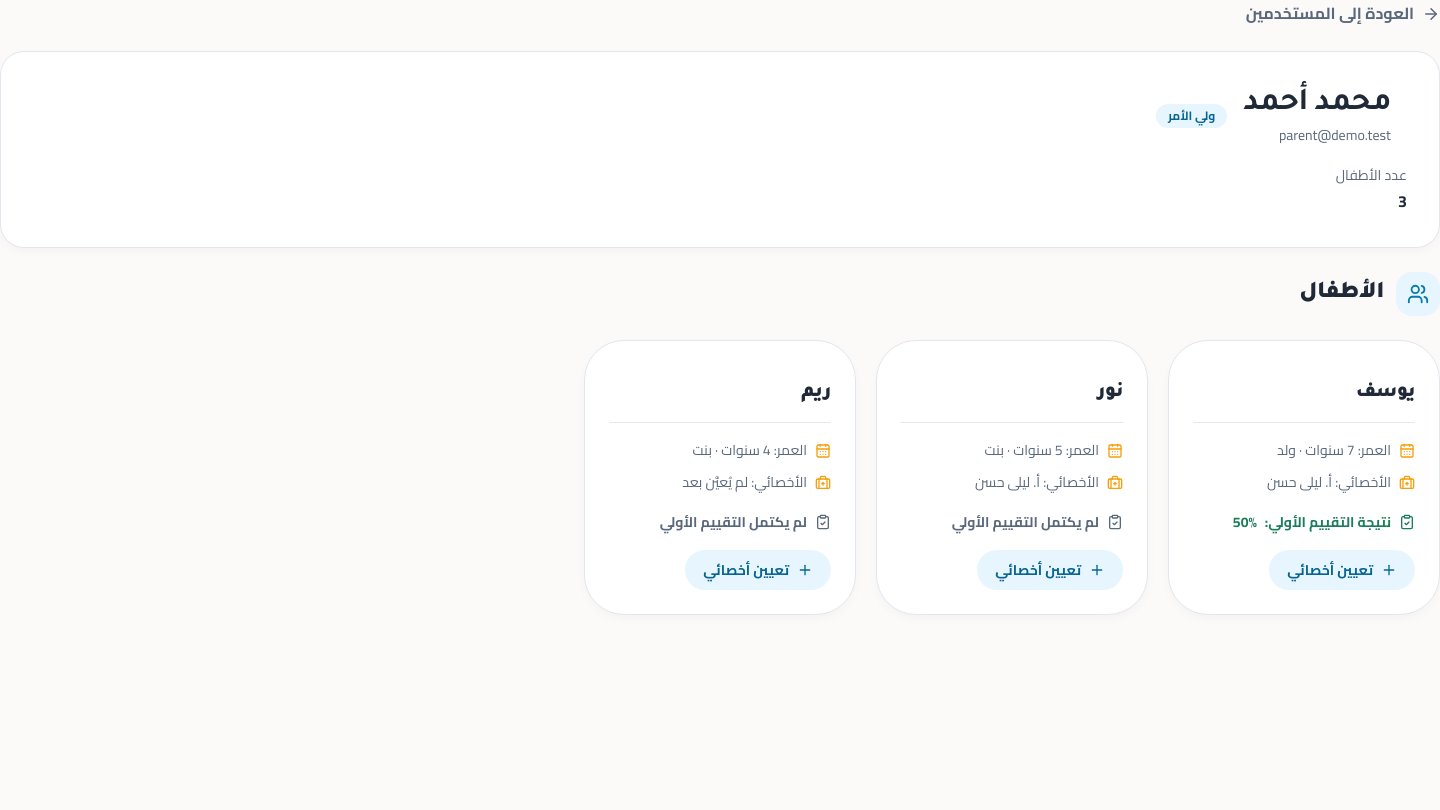
AdminUserDetailPage › marks the current specialist and keeps the dialog open with the backend error
This screenshot has width=1440, height=810.
Expected: the heading "محمد أحمد" is shown, [1243,84,1391,124]
Click the button with aria-label "تعيين أخصائي لـ يوسف".
click(1342, 570)  # box [1269,550,1415,590]
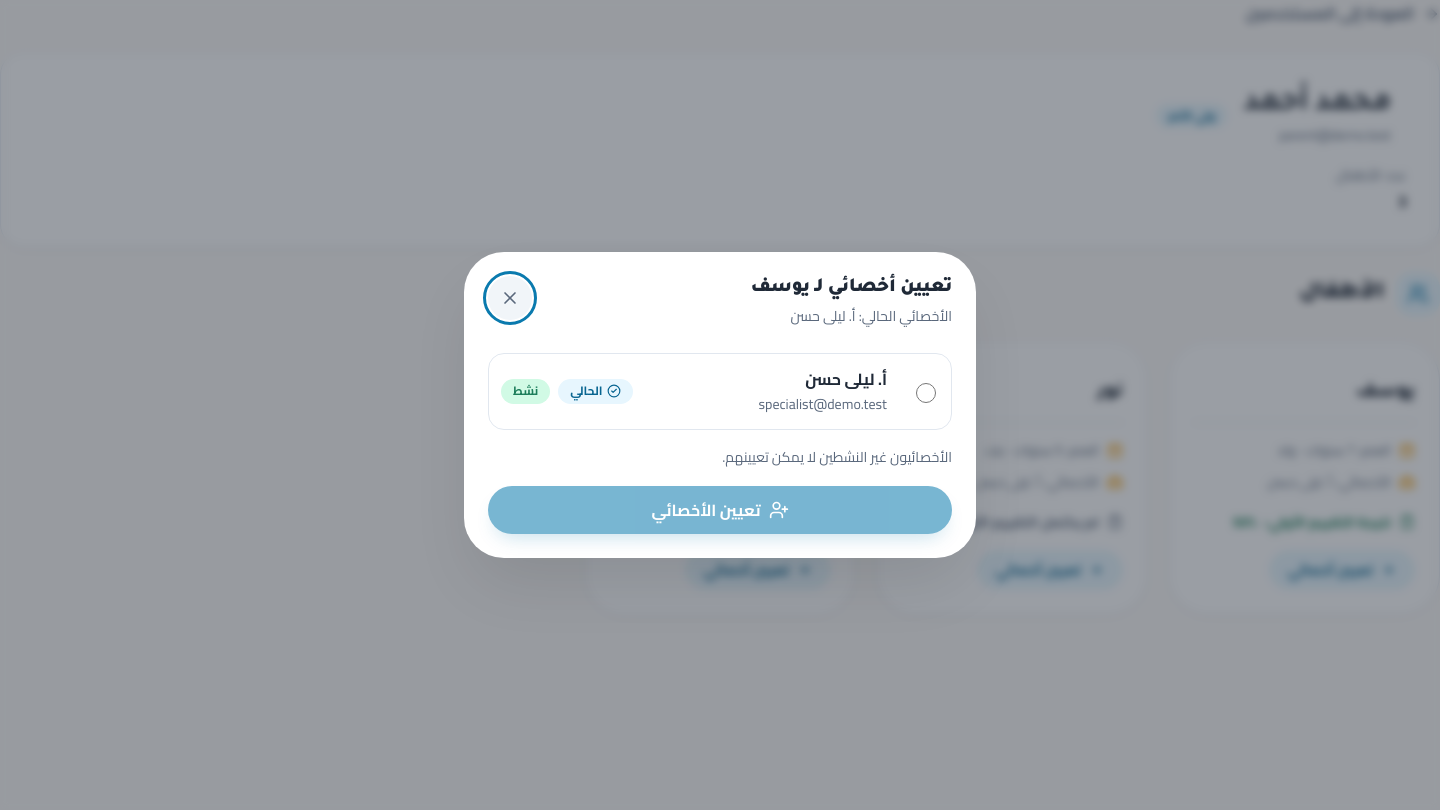
Now the text "الحالي" is shown, box [558,379,633,404]
Note: Re-assigning the current specialist is not offered.
Click the radio button labelled "أ. ليلى حسن specialist@demo.test الحالي نشط".
click(926, 393)  # box [916,383,936,403]
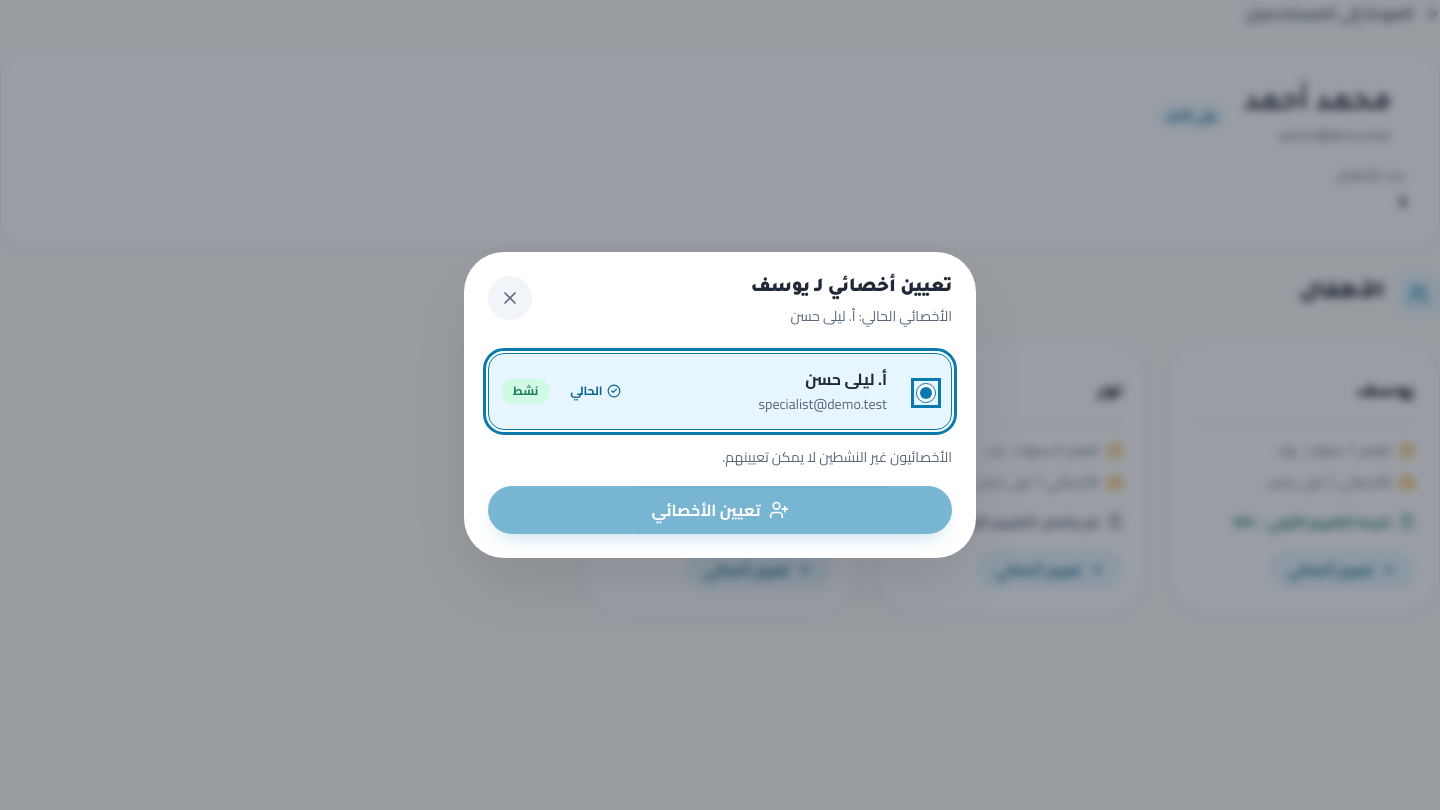
Now the button "تعيين الأخصائي" is disabled, box [488,486,952,534]
Click the button named "إغلاق".
click(510, 298)  # box [488,276,532,320]
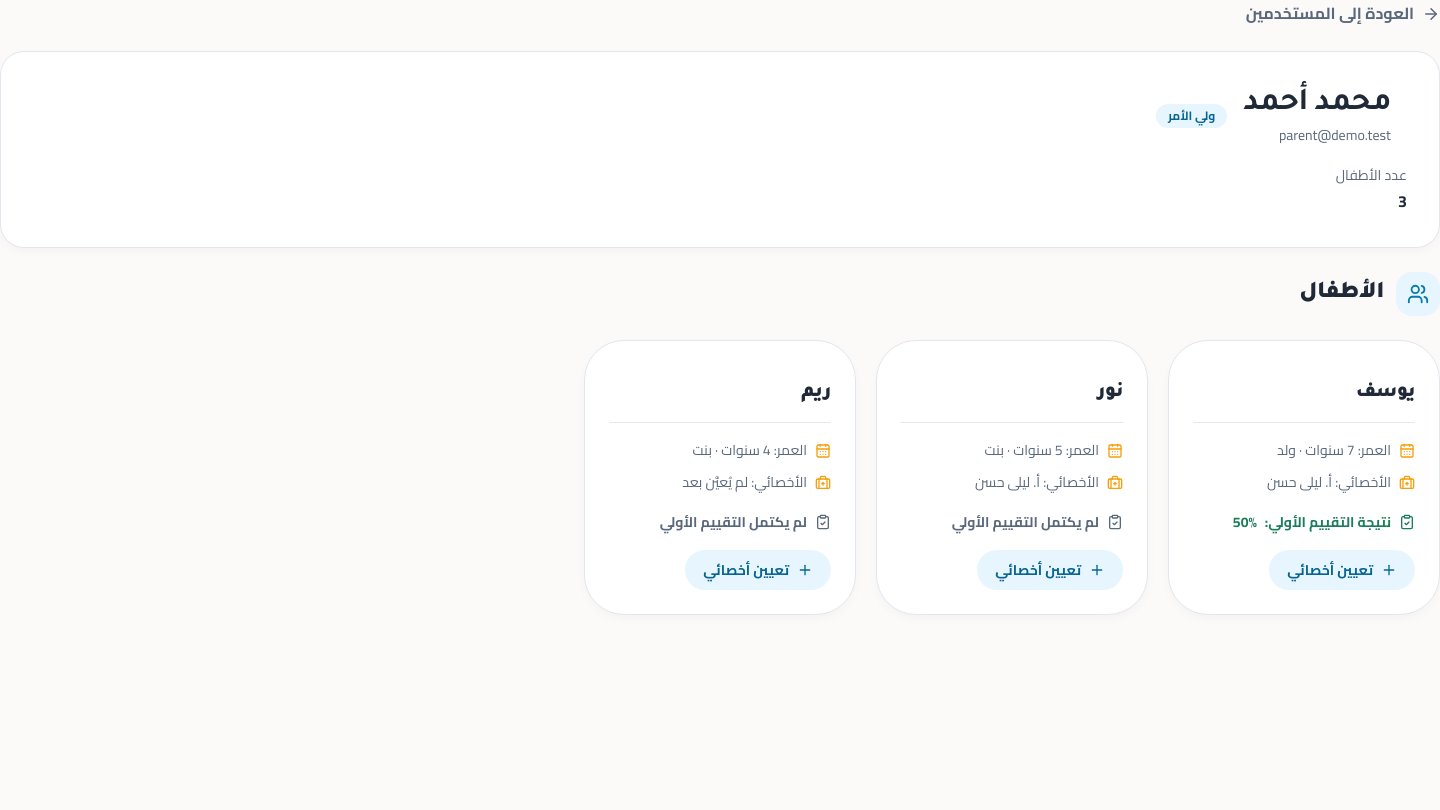
Click the button with aria-label "تعيين أخصائي لـ يوسف".
click(1342, 570)  # box [1269,550,1415,590]
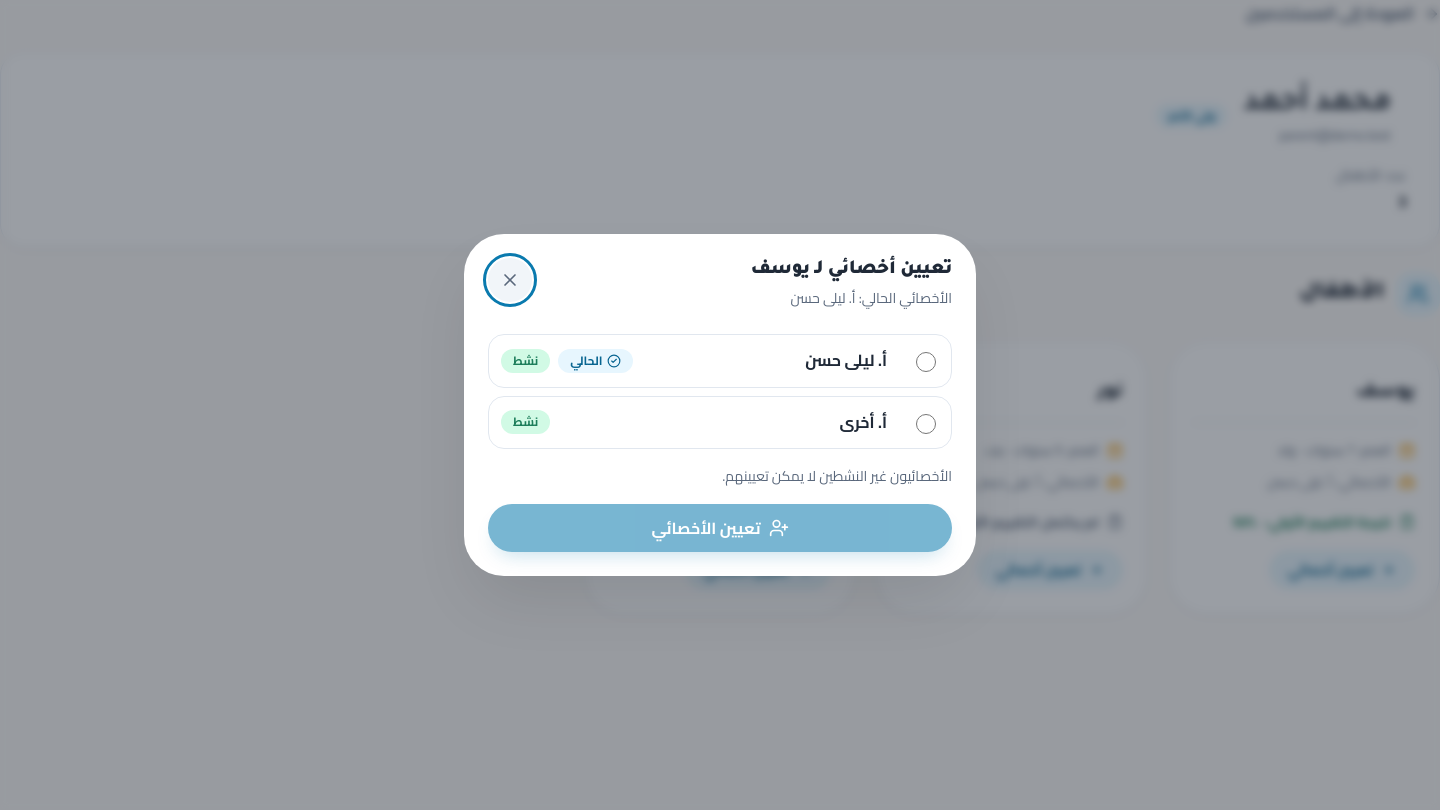
Click the radio button labelled "أ. أخرى نشط".
click(926, 424)  # box [916,414,936,434]
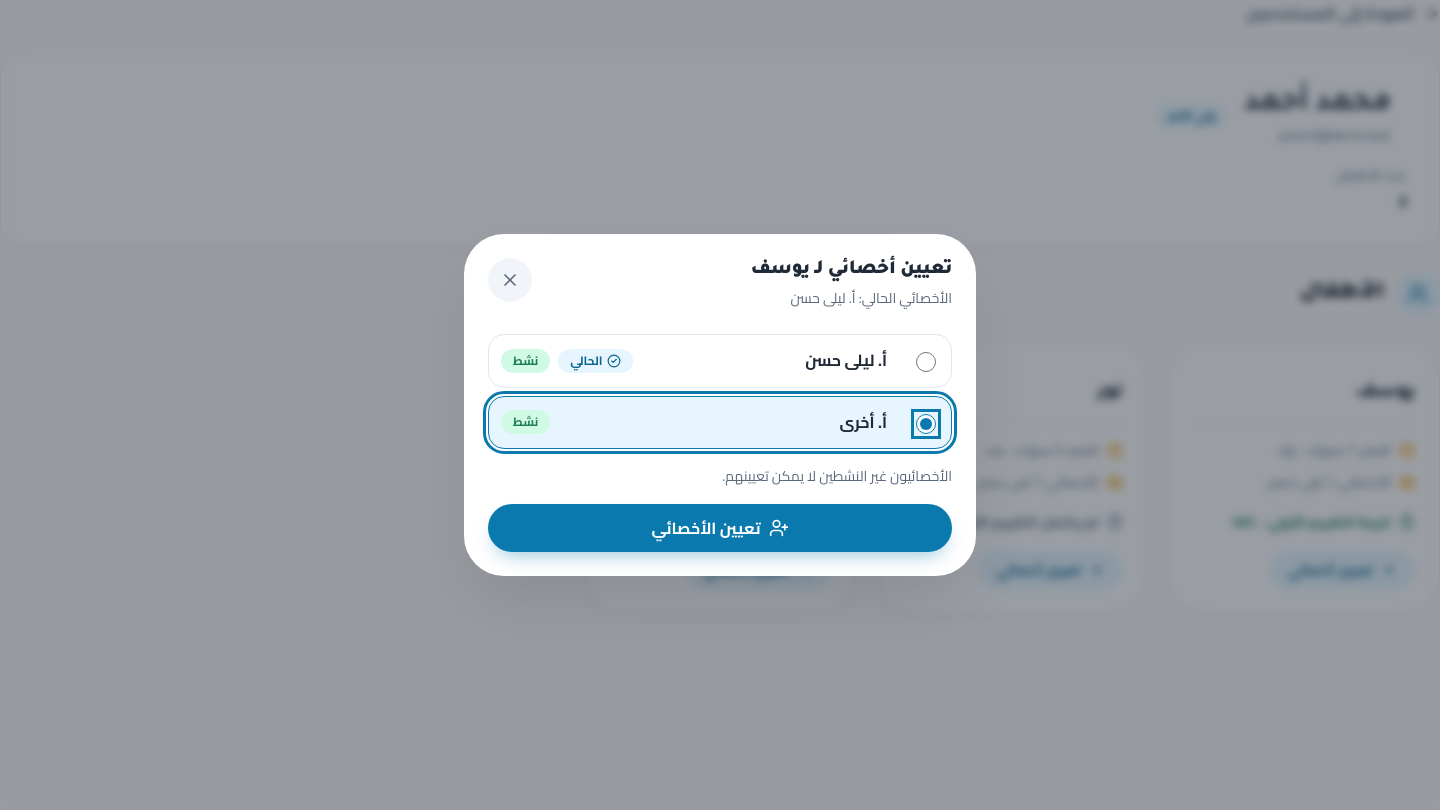
Click the button "تعيين الأخصائي".
click(720, 528)  # box [488,504,952,552]
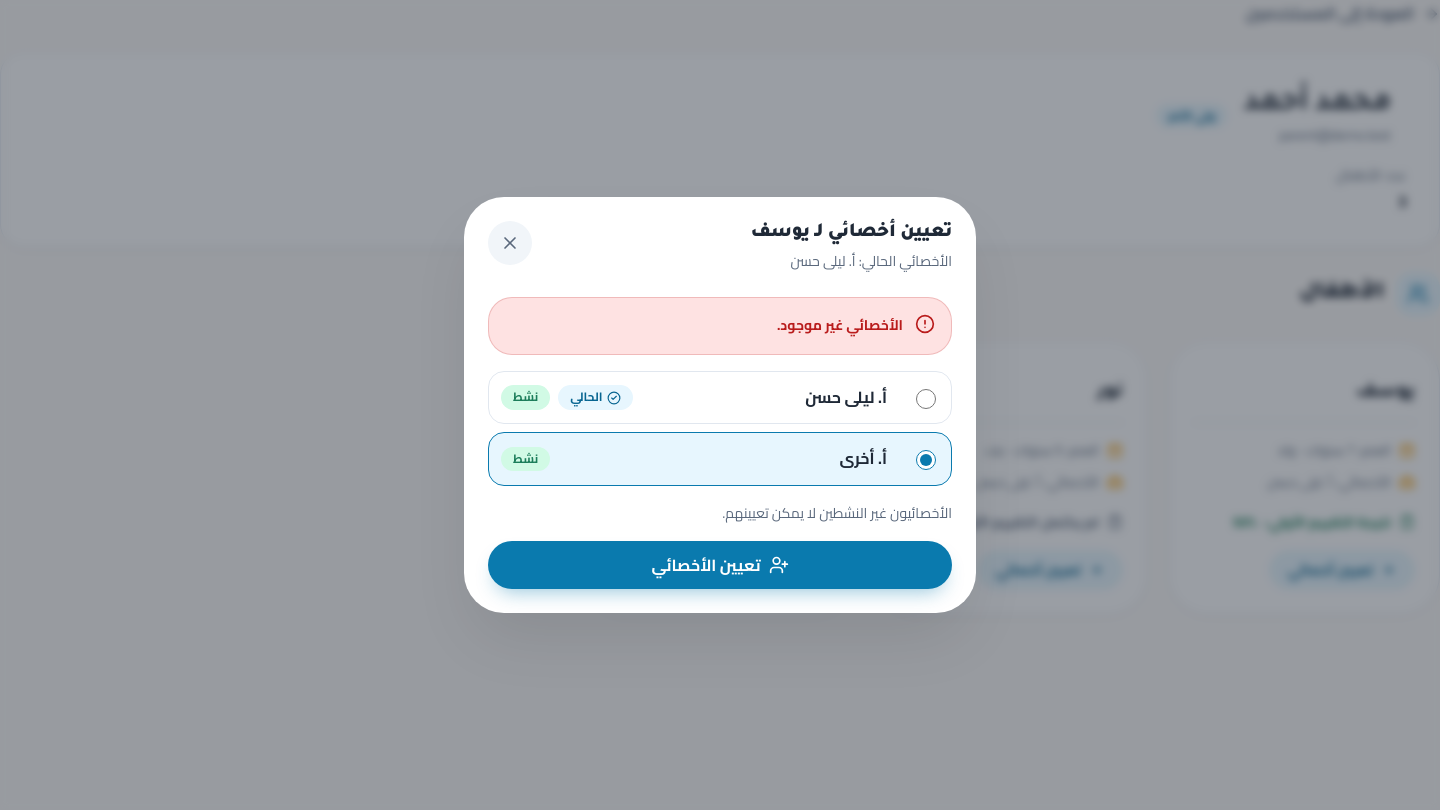
Now the text "الأخصائي غير موجود." is shown, box [777,314,903,338]
